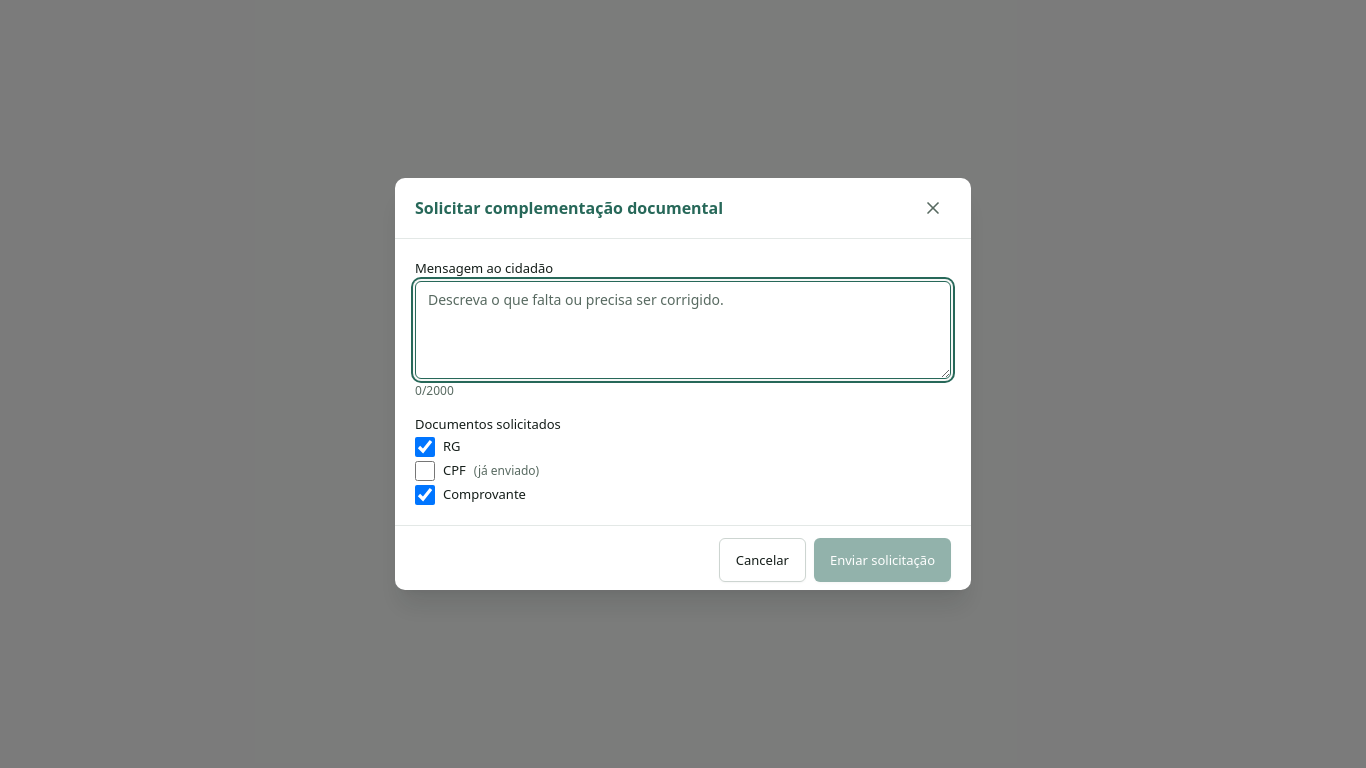
Scenario: SolicitarComplementacaoDialog (PR 4d) › desmarcar todos os checkboxes desabilita o submit
Type "x" into the text box labelled "Mensagem ao cidadão" at [683, 330], box [415,281,951,379]
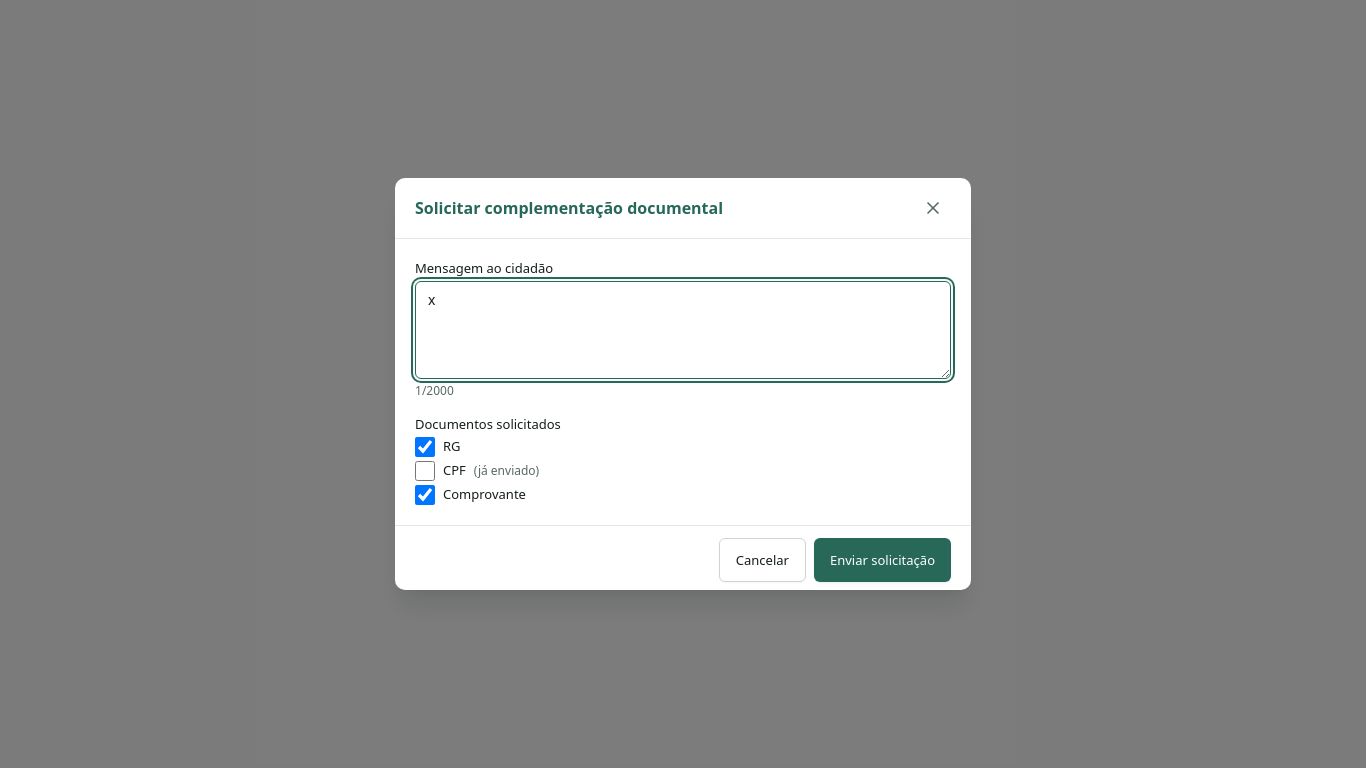
Click the checkbox labelled "RG" at [425, 447], box [415,437,435,457]
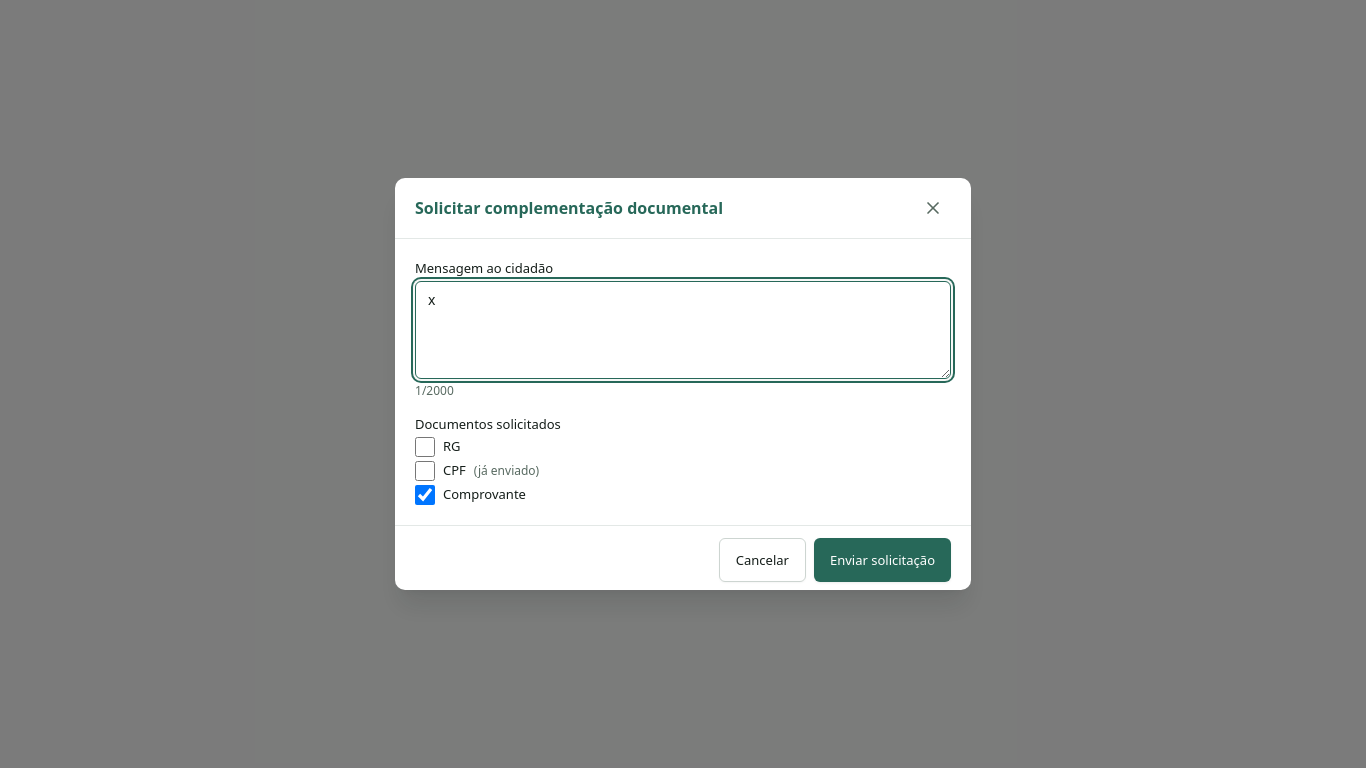
Click the checkbox labelled "Comprovante" at [425, 495], box [415,485,435,505]
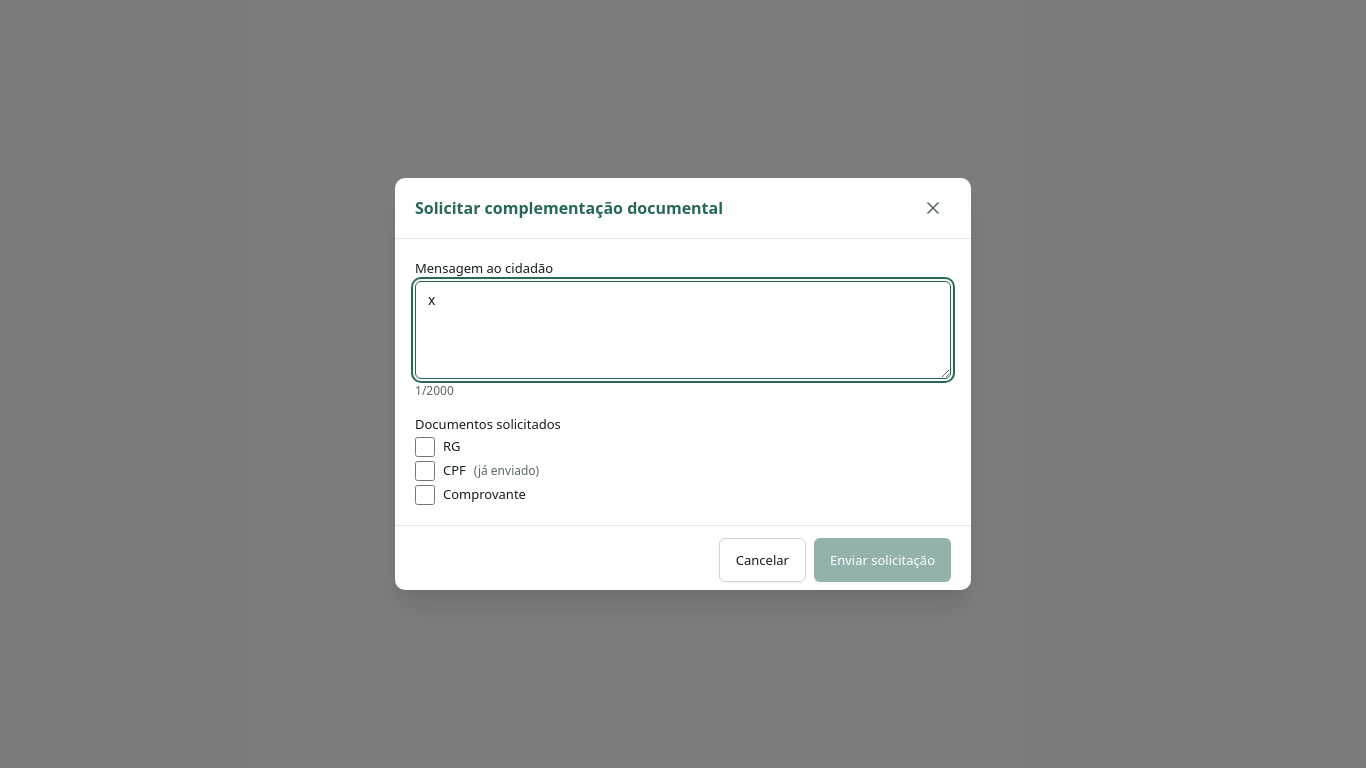
Result: the button "Enviar solicitação" is disabled at [814,538,951,582]
